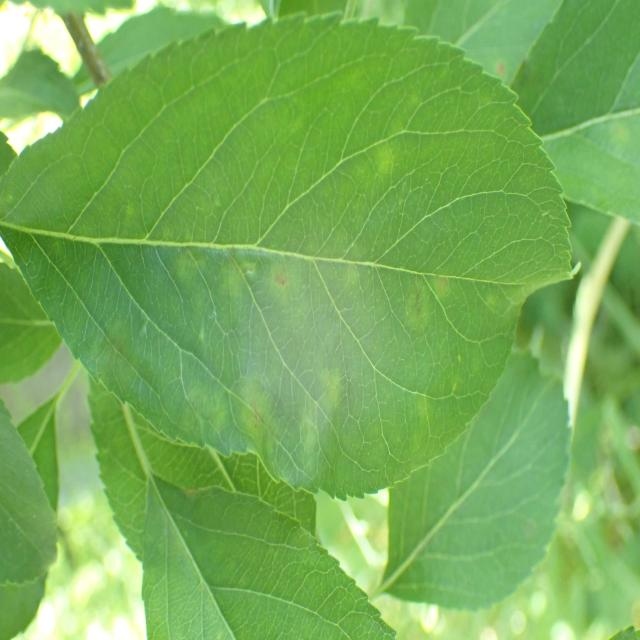scab: (46, 110, 512, 484)
